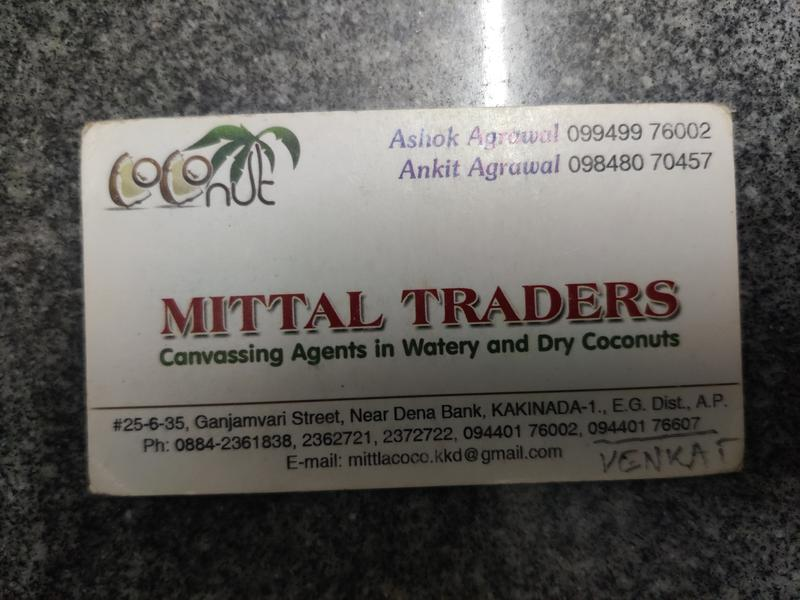card: (75, 99, 750, 500)
